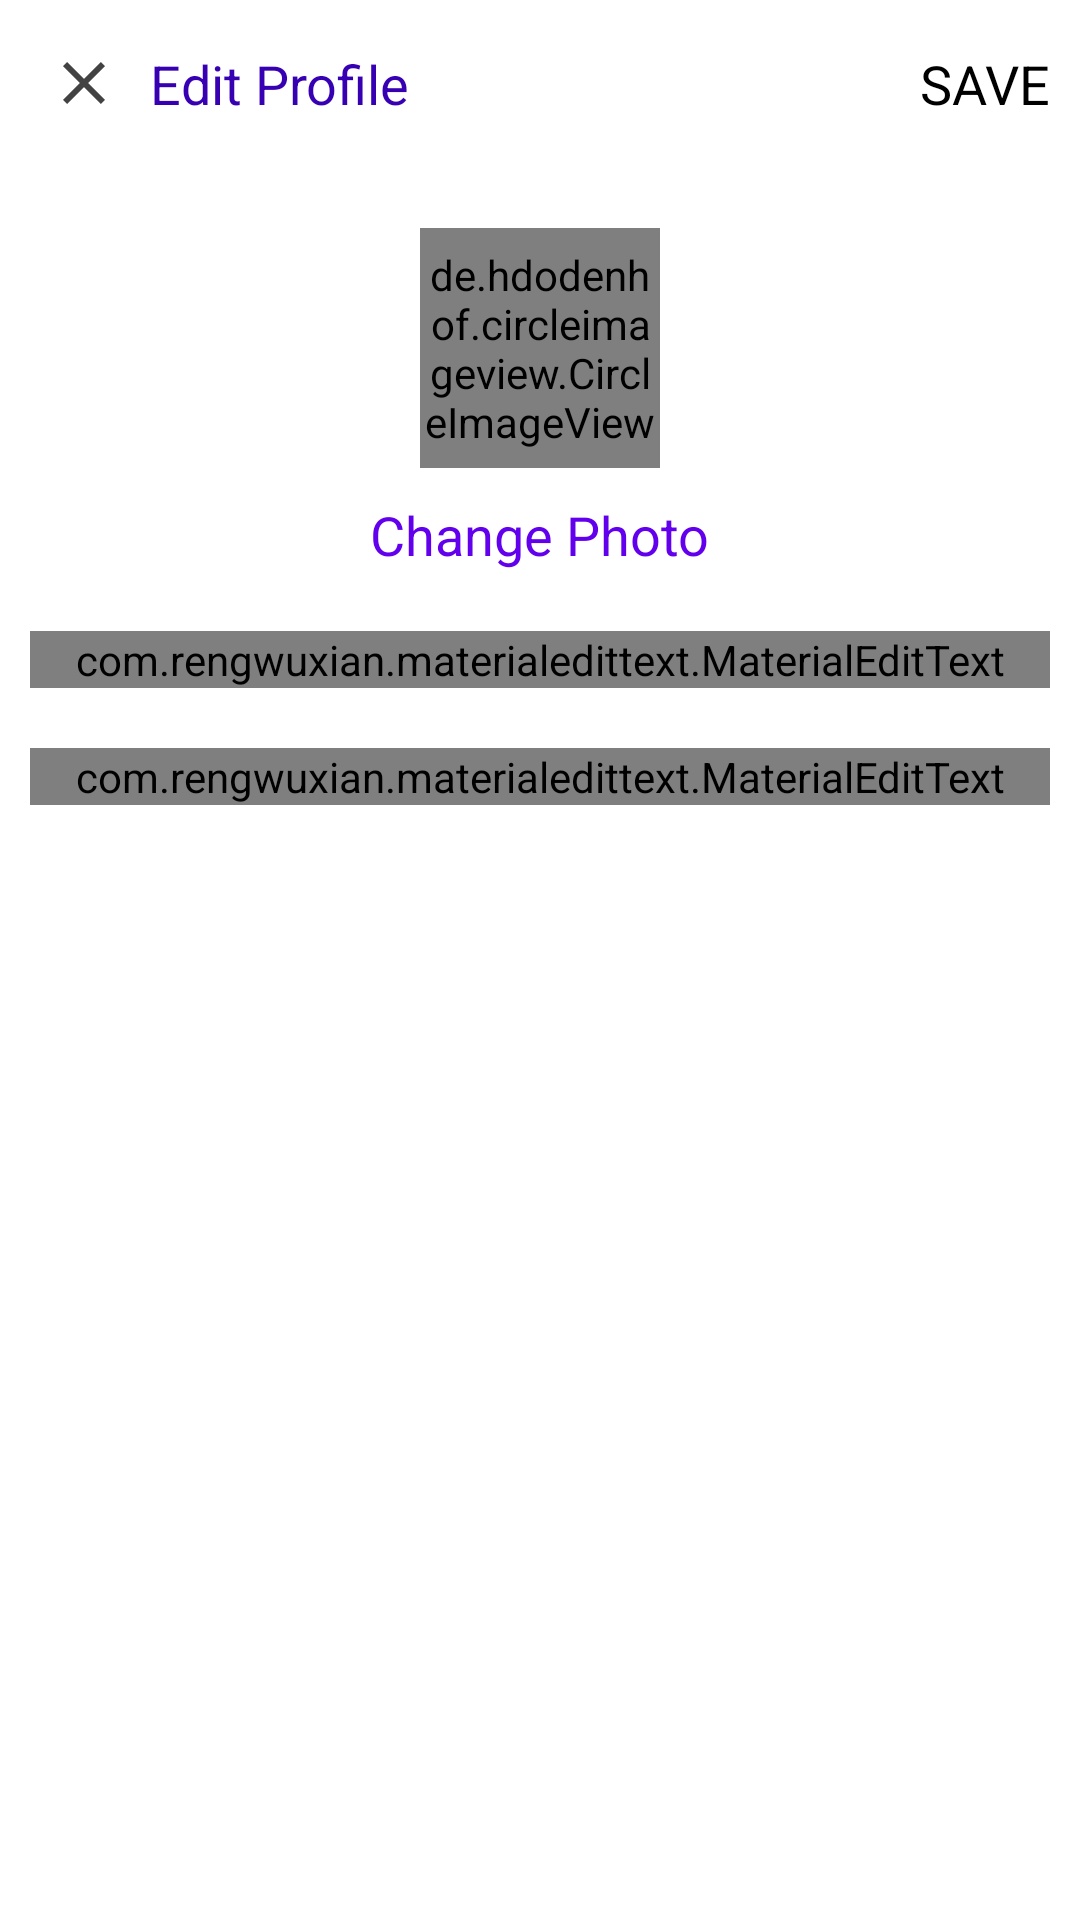

Named icons in this screenshot (1080px×1920px) and their bounding boxes, (x1, y1, x2, y2):
close: (63, 62, 105, 104)
